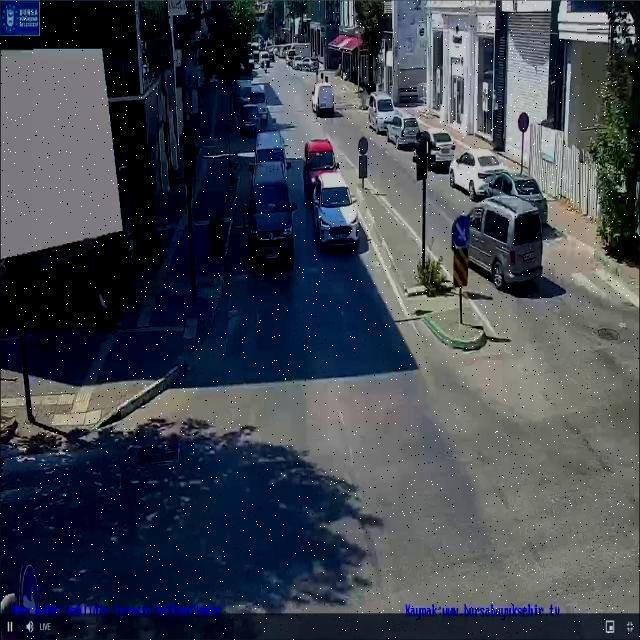Car: (248, 162, 295, 264), (481, 170, 548, 224), (314, 174, 359, 246), (449, 148, 505, 198), (303, 137, 338, 201), (416, 129, 454, 169), (254, 130, 288, 172), (368, 91, 398, 133), (386, 112, 420, 149), (241, 103, 269, 135), (233, 79, 253, 106), (248, 83, 266, 106), (292, 55, 306, 69), (285, 49, 297, 65), (300, 57, 314, 70), (259, 51, 271, 65), (252, 46, 260, 61), (267, 50, 275, 61)
Truck: (465, 196, 544, 290), (311, 81, 334, 116)
